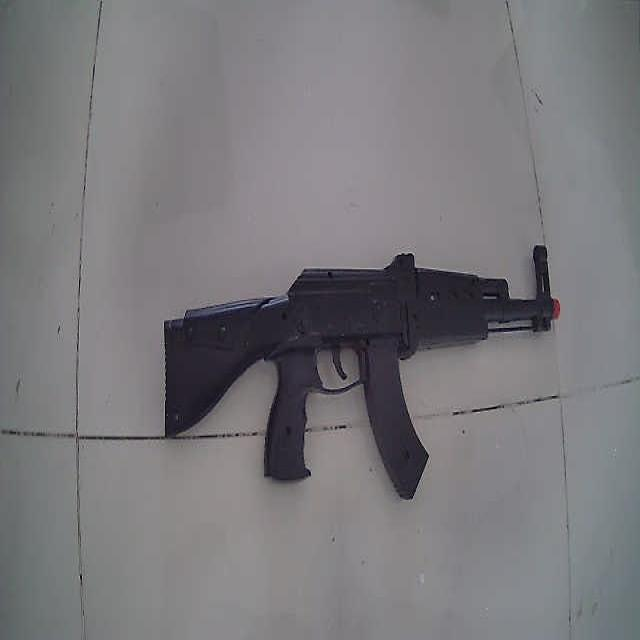rifle: (163, 244, 561, 499)
